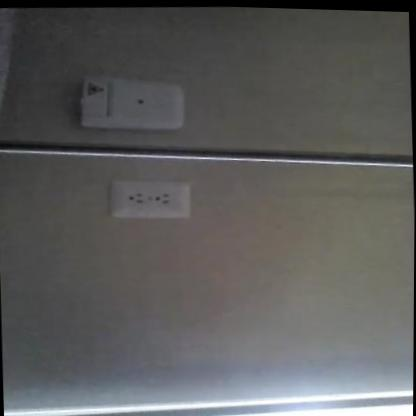OUTLET: (108, 176, 191, 219)
